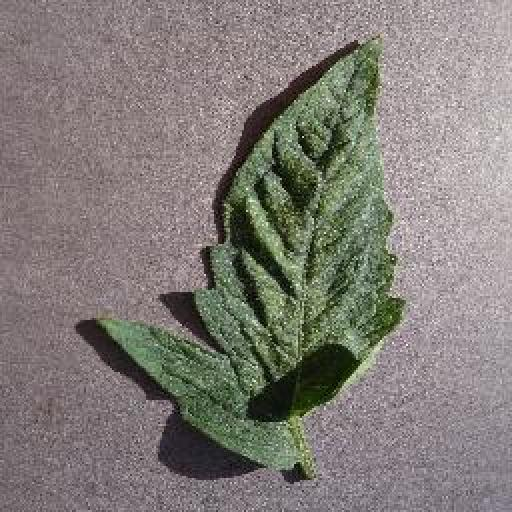disease_tomato: (96, 31, 408, 472)
